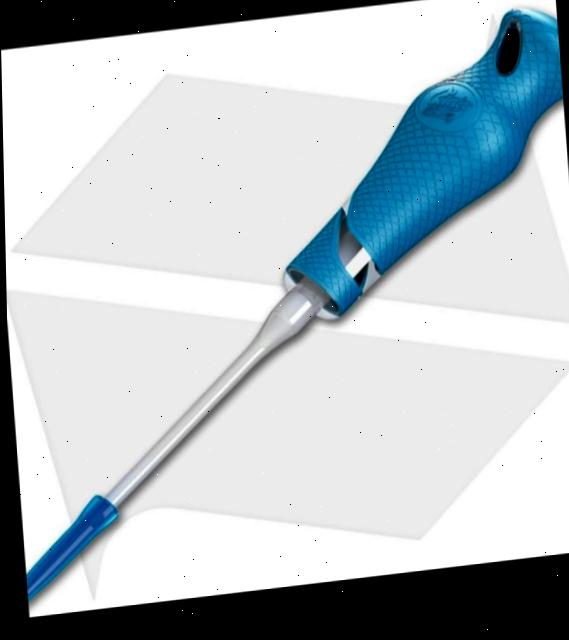ice pick: (1, 8, 569, 617)
